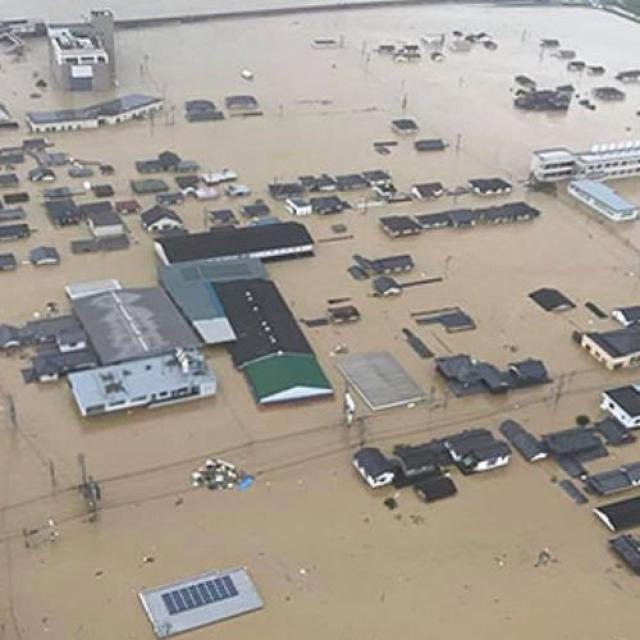flooded_areas: (0, 7, 625, 638)
